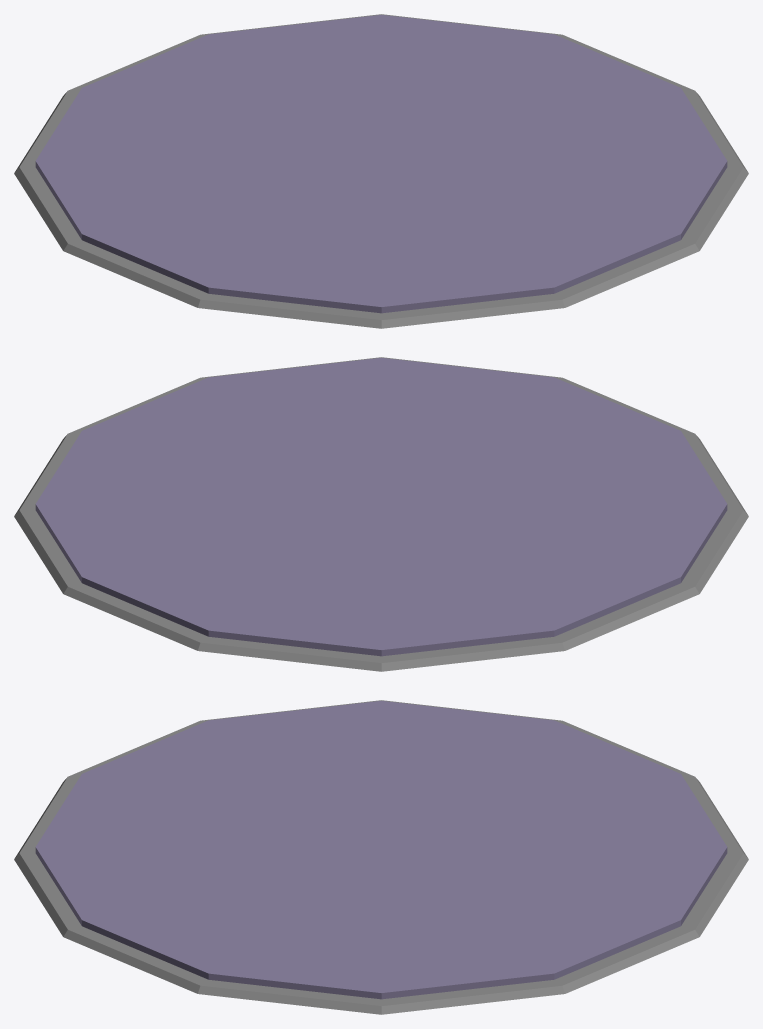
The model's file is carDisplay.fbx.
3 views of the same model, one above another, from view 1: azimuth 30°, elevation 25°; view 2: azimuth 150°, elevation 25°; view 3: azimuth 270°, elevation 25° (orthographic).
Visible parts, largest first — view 1: Circle.001, Circle; view 2: Circle.001, Circle; view 3: Circle.001, Circle.
Boxes of the visible parts, left/top/right/bottom form: Circle.001: left=35, top=15, right=727, bottom=313; Circle: left=14, top=14, right=748, bottom=328; Circle.001: left=35, top=358, right=727, bottom=656; Circle: left=14, top=357, right=748, bottom=671; Circle.001: left=35, top=701, right=727, bottom=999; Circle: left=14, top=700, right=748, bottom=1014.
Size of the model in its own units: 599 by 599 by 11.26.
